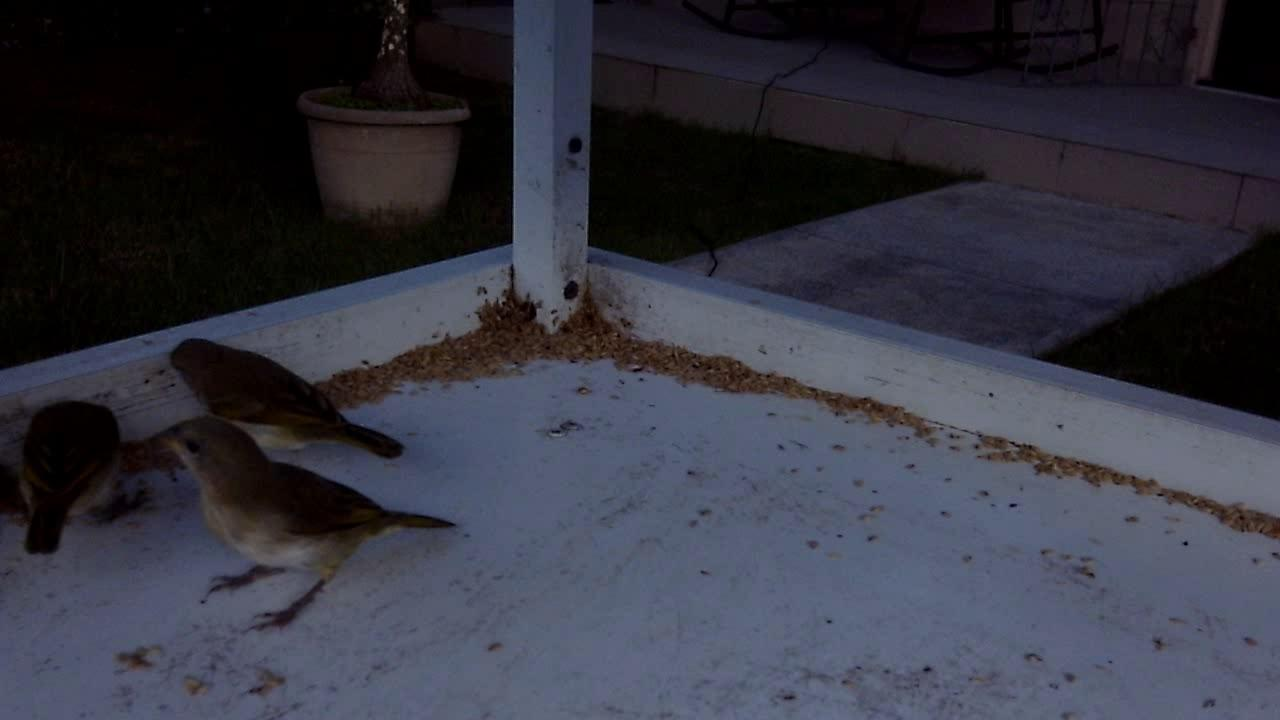canario_do_amazonas: (140, 406, 472, 639), (154, 330, 417, 469), (9, 384, 149, 562)
